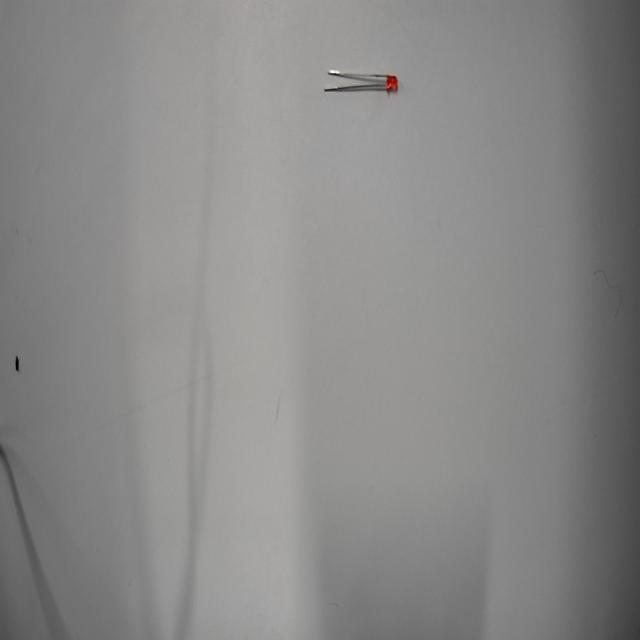LED_red: (368, 52, 414, 114)
